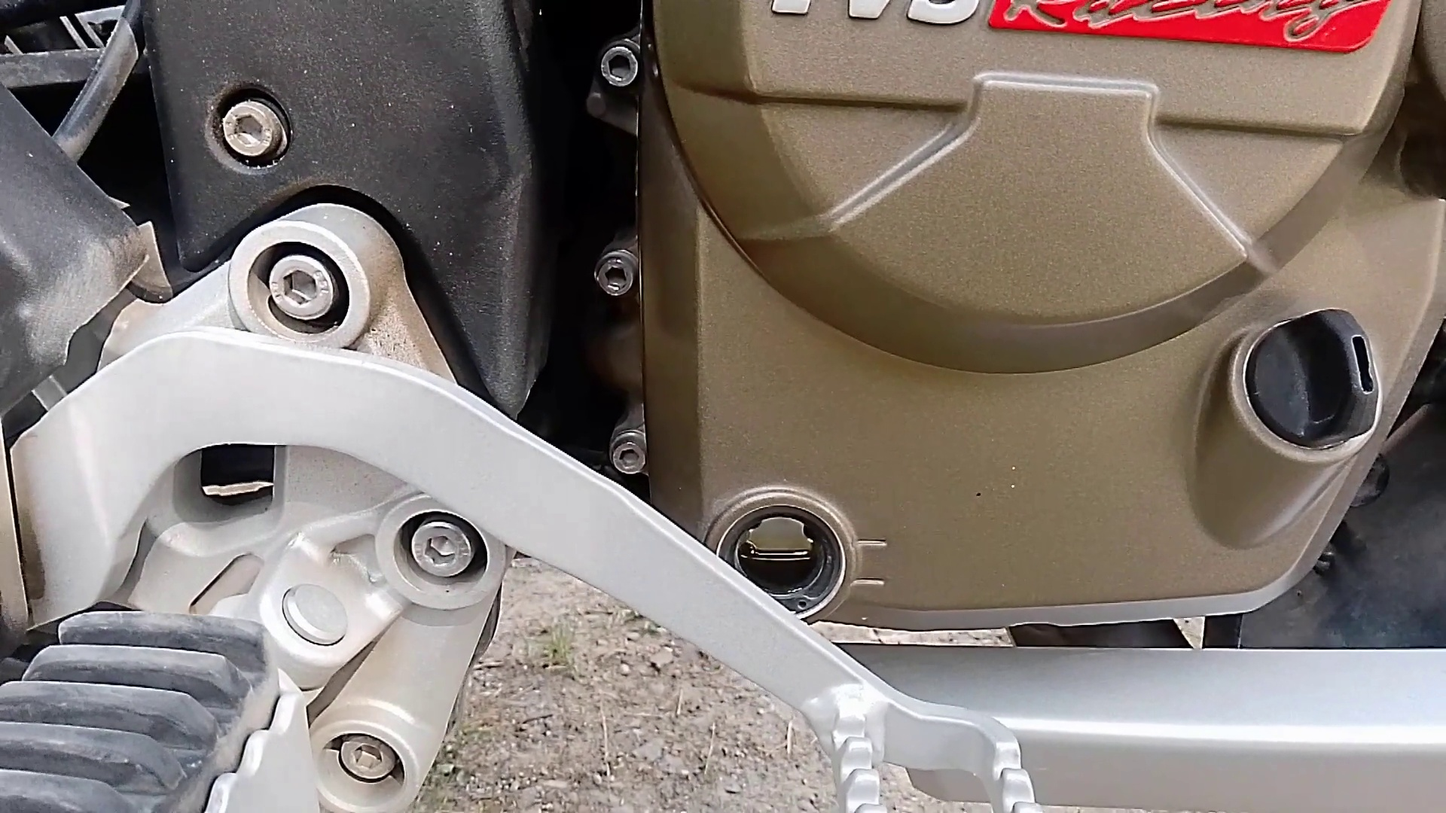engine: (572, 0, 1446, 685)
oil_cap: (1216, 275, 1420, 474)
oil_marker: (678, 482, 919, 644)
